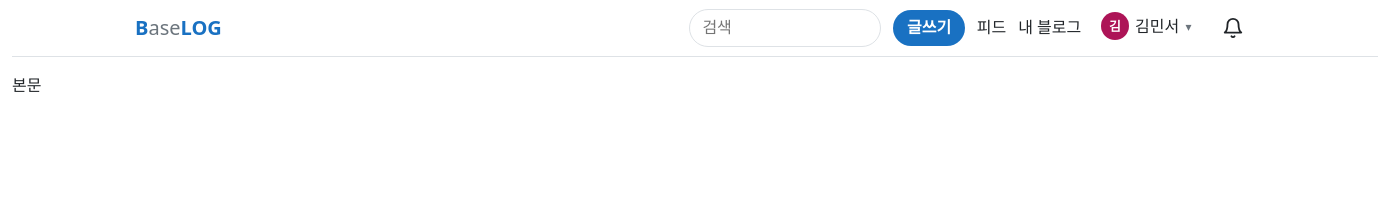
Test: 공통 머리말 (SiteHeader) › 로그인: [글쓰기]·내 블로그·계정 메뉴(내 글 관리·설정·로그아웃)
The width and height of the screenshot is (1378, 216).
Expected: the link "내 글 관리" is not shown
Click the button with aria-label "계정 메뉴": (1146, 26) [1093,8,1199,44]
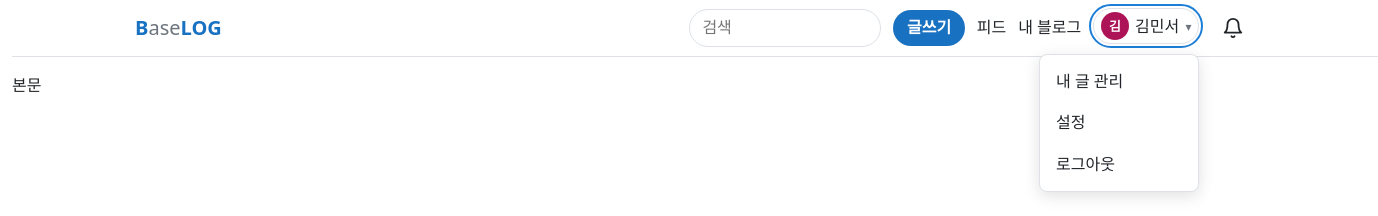
Expected: the button "로그아웃" is shown, [1040,144,1198,186]
Note: Esc로 닫힌다
Press Escape
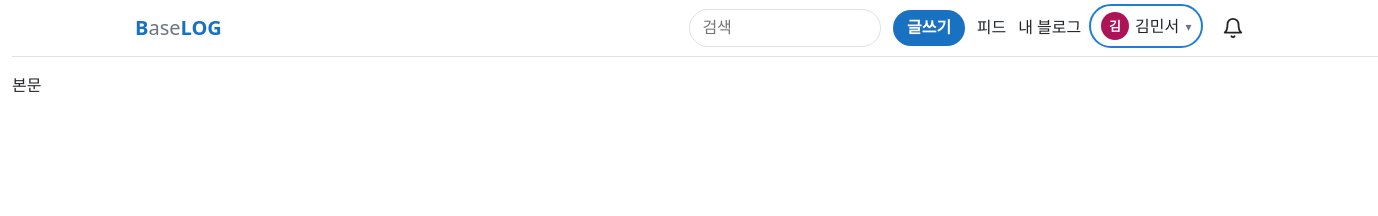
Expected: the link "내 글 관리" is gone
